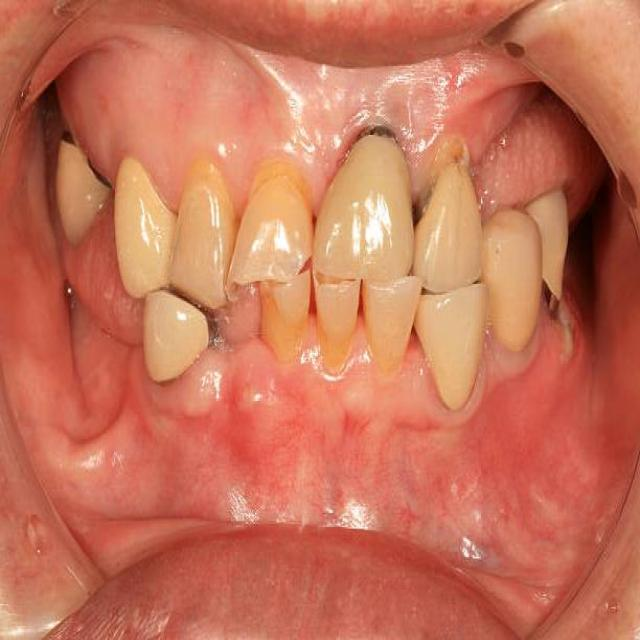caries: (178, 281, 230, 360), (59, 128, 117, 197)
